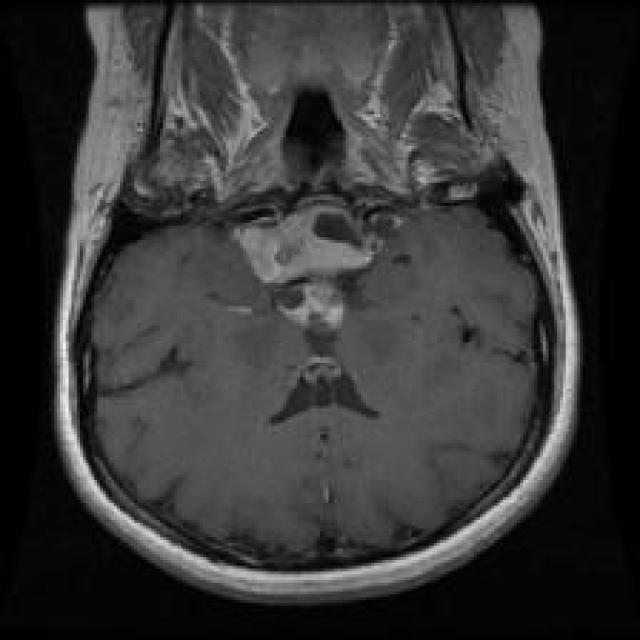pituitary_tumor: (234, 194, 388, 350)
